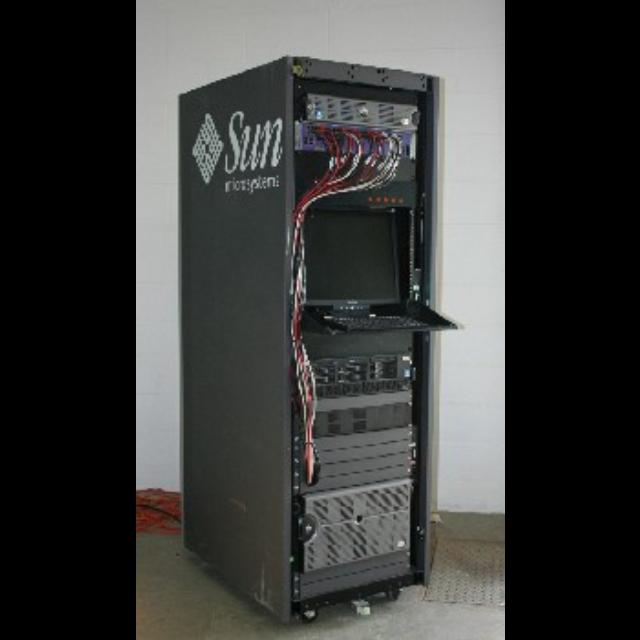Server: (173, 48, 447, 624)
